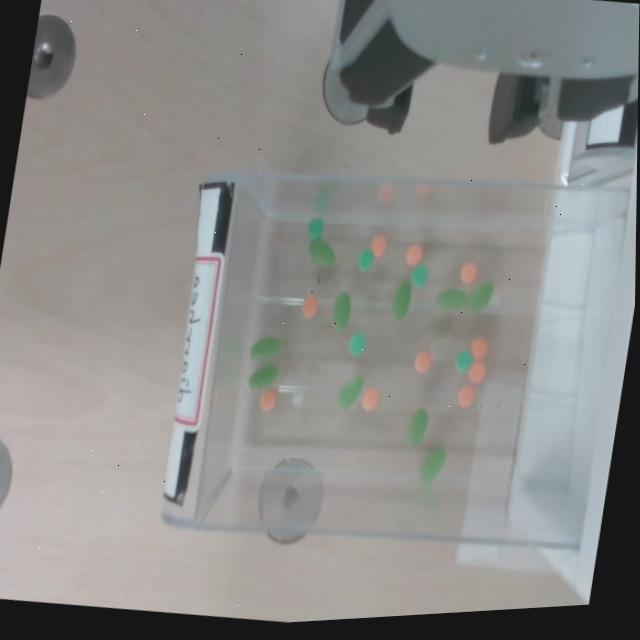famodine: (347, 332, 367, 357), (454, 350, 474, 374), (410, 265, 430, 289), (306, 219, 325, 241), (356, 251, 375, 272), (455, 351, 472, 373), (411, 265, 427, 288), (357, 249, 373, 272), (348, 334, 364, 356), (308, 219, 323, 240)
otillen_tab: (335, 373, 365, 412), (420, 446, 448, 486), (466, 280, 495, 316), (389, 280, 414, 321), (405, 408, 430, 448), (247, 363, 280, 393), (306, 238, 337, 268), (248, 337, 281, 365), (330, 293, 353, 333), (337, 376, 363, 410), (421, 448, 445, 484), (467, 282, 493, 314), (435, 288, 468, 313), (248, 365, 278, 391), (391, 281, 411, 320), (407, 410, 428, 447), (308, 239, 334, 267), (250, 339, 280, 362), (436, 289, 466, 311), (333, 294, 350, 332)
samsung_octylonium_tab: (458, 263, 479, 285), (456, 386, 476, 409), (259, 388, 277, 413), (405, 245, 425, 267), (301, 297, 320, 320), (361, 388, 379, 412), (457, 385, 475, 409), (470, 337, 488, 361), (413, 352, 433, 373), (258, 391, 277, 413), (361, 390, 380, 412), (469, 361, 488, 383), (470, 338, 489, 360), (369, 236, 388, 258), (459, 262, 477, 285), (405, 245, 423, 268), (468, 360, 485, 384), (370, 236, 387, 259), (301, 295, 318, 318), (414, 352, 431, 374)
